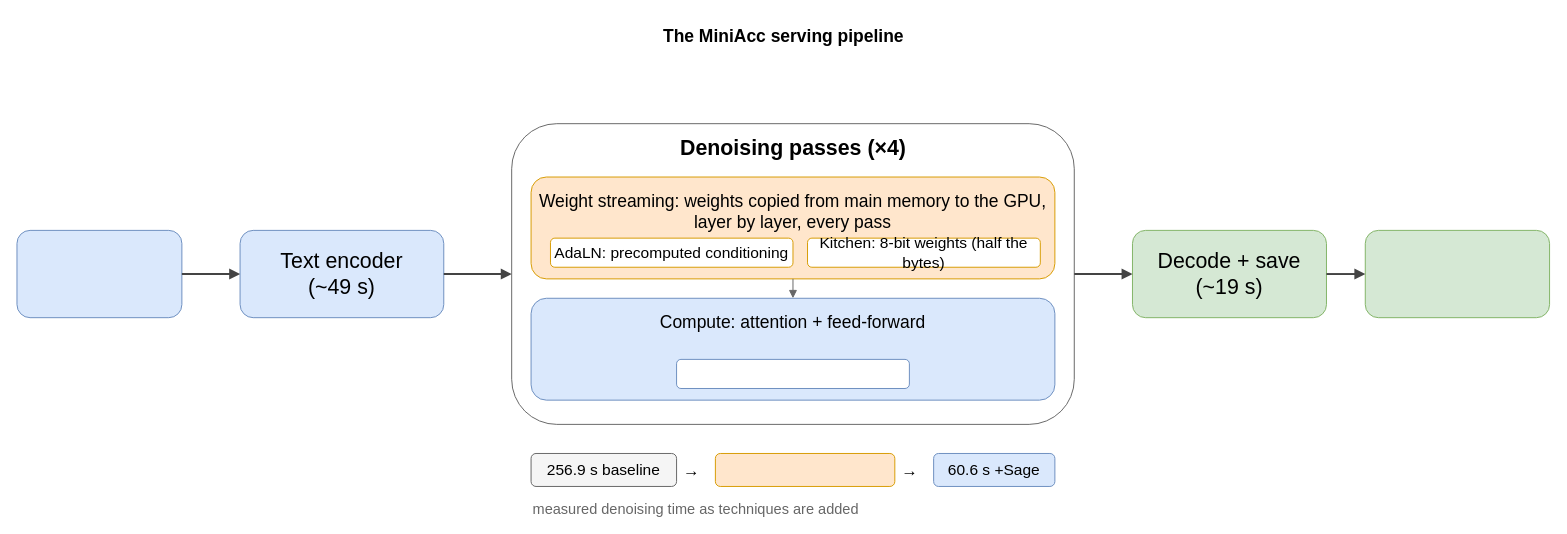
Some shapes in this 1567 by 534 pixel diagram are drawn without their labels. Here are the shapes that lost their labels. From the top down, the centre of each, then its label:
At [99,273]: "Prompt".
At [1457,273]: "Video file (5.2 s, with audio)".
At [792,373]: "Sage: 8-bit attention scores".
At [804,469]: "79.5 s +AdaLN+Kitchen".
